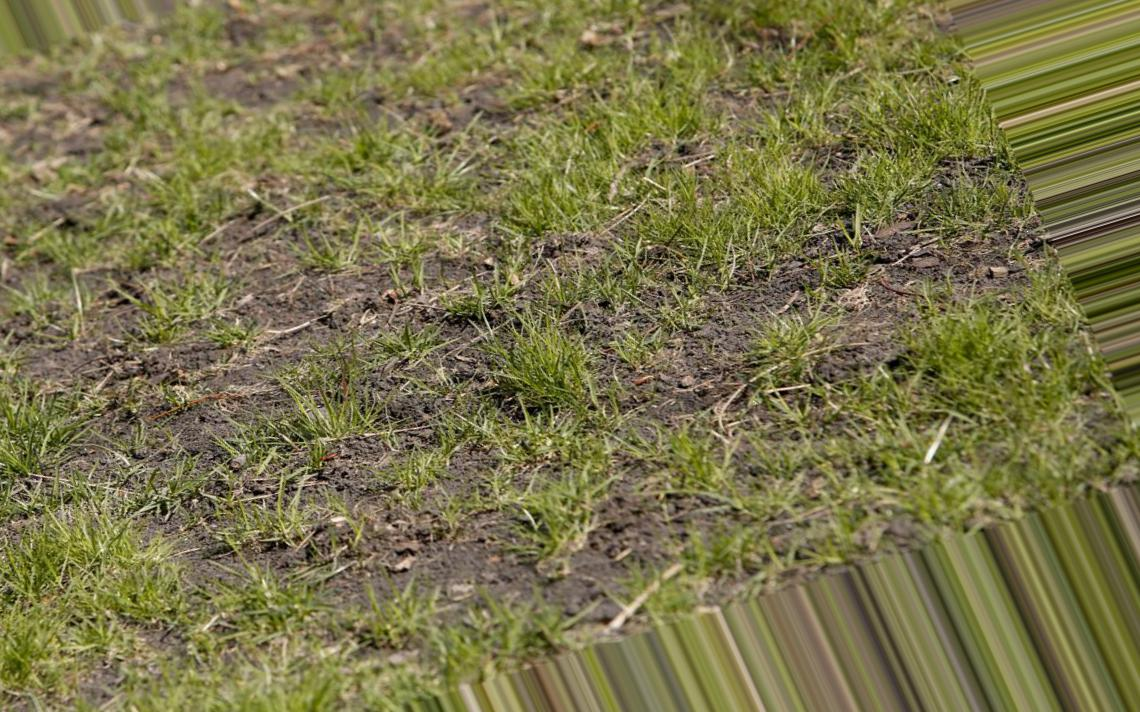patch: (265, 412, 460, 527), (126, 275, 236, 438), (126, 438, 265, 527), (236, 275, 350, 351), (728, 266, 832, 329), (400, 501, 500, 566), (660, 303, 747, 373), (565, 555, 652, 612), (863, 216, 941, 270)
